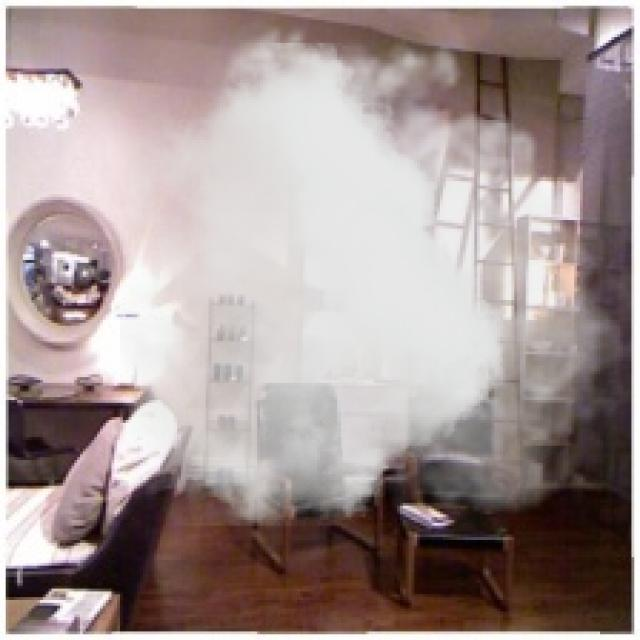smoke: (120, 11, 637, 528)
